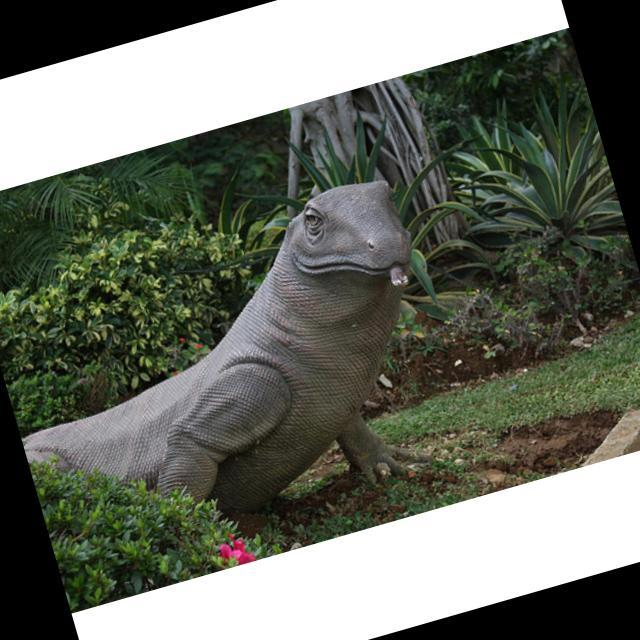KomodoDragon: (0, 170, 476, 577)
